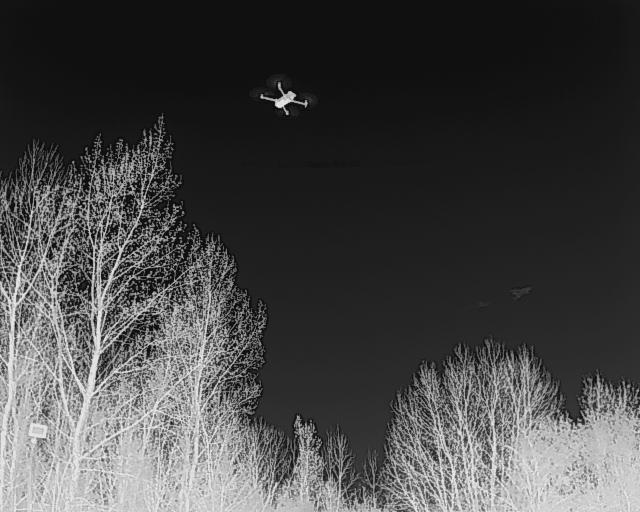drone: (257, 77, 315, 128)
